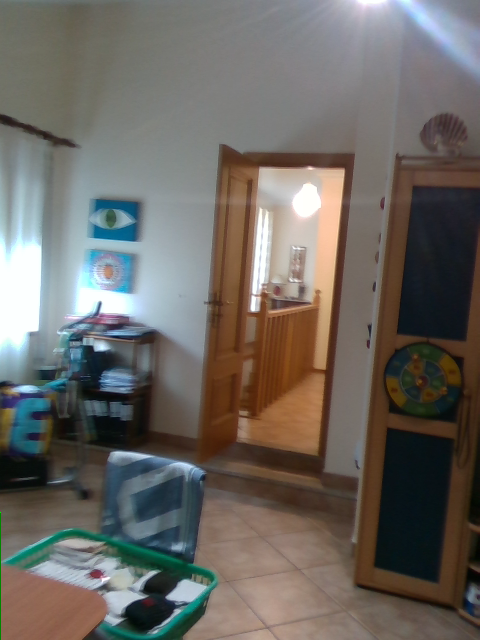open: (199, 144, 350, 462)
